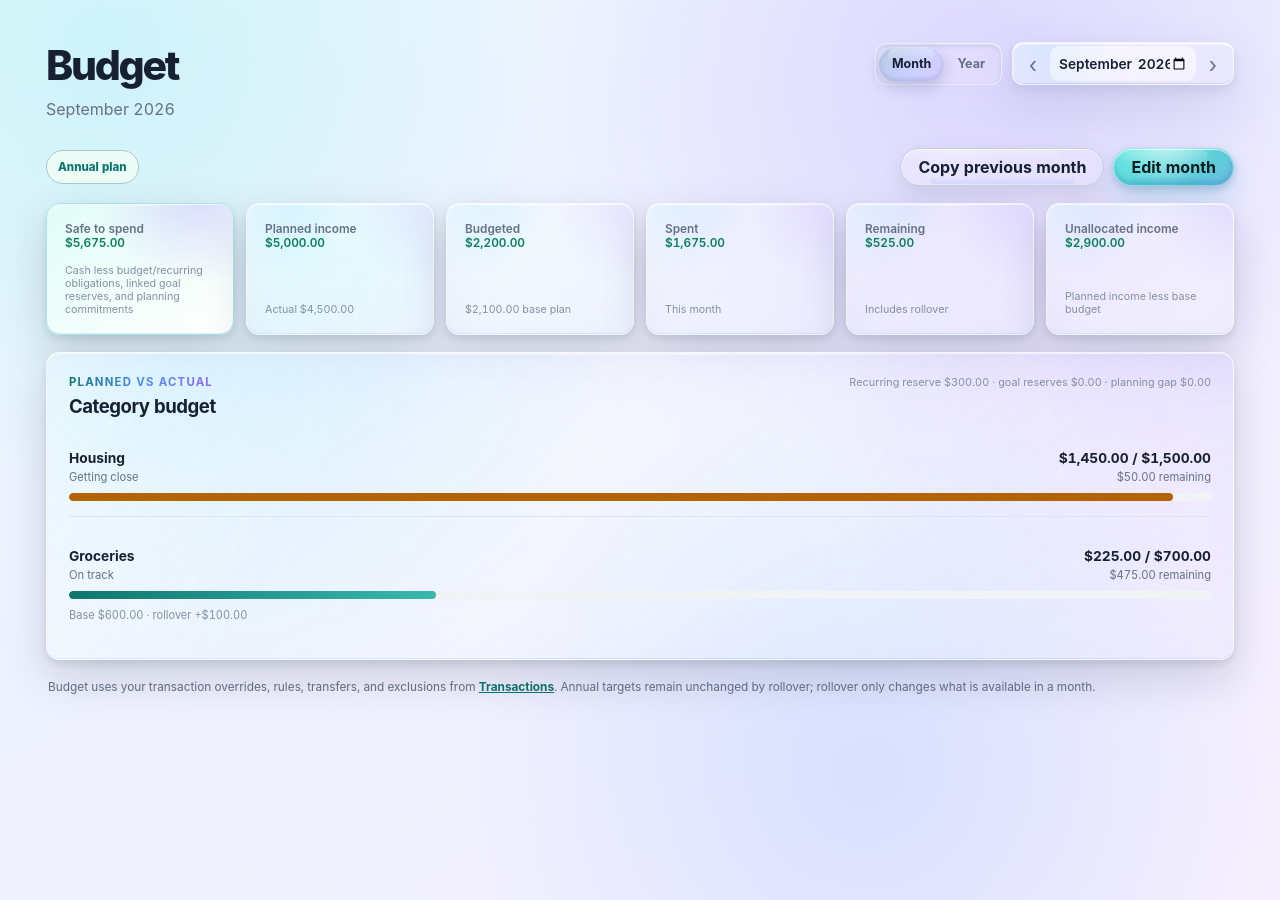
it: BudgetPage › switches to annual planning and exposes the annual editor
Expected: the text "Safe to spend" is shown, [65,222,144,236]
Step 1. Click the button "Year" → (971, 64), box [944,46,998,80]
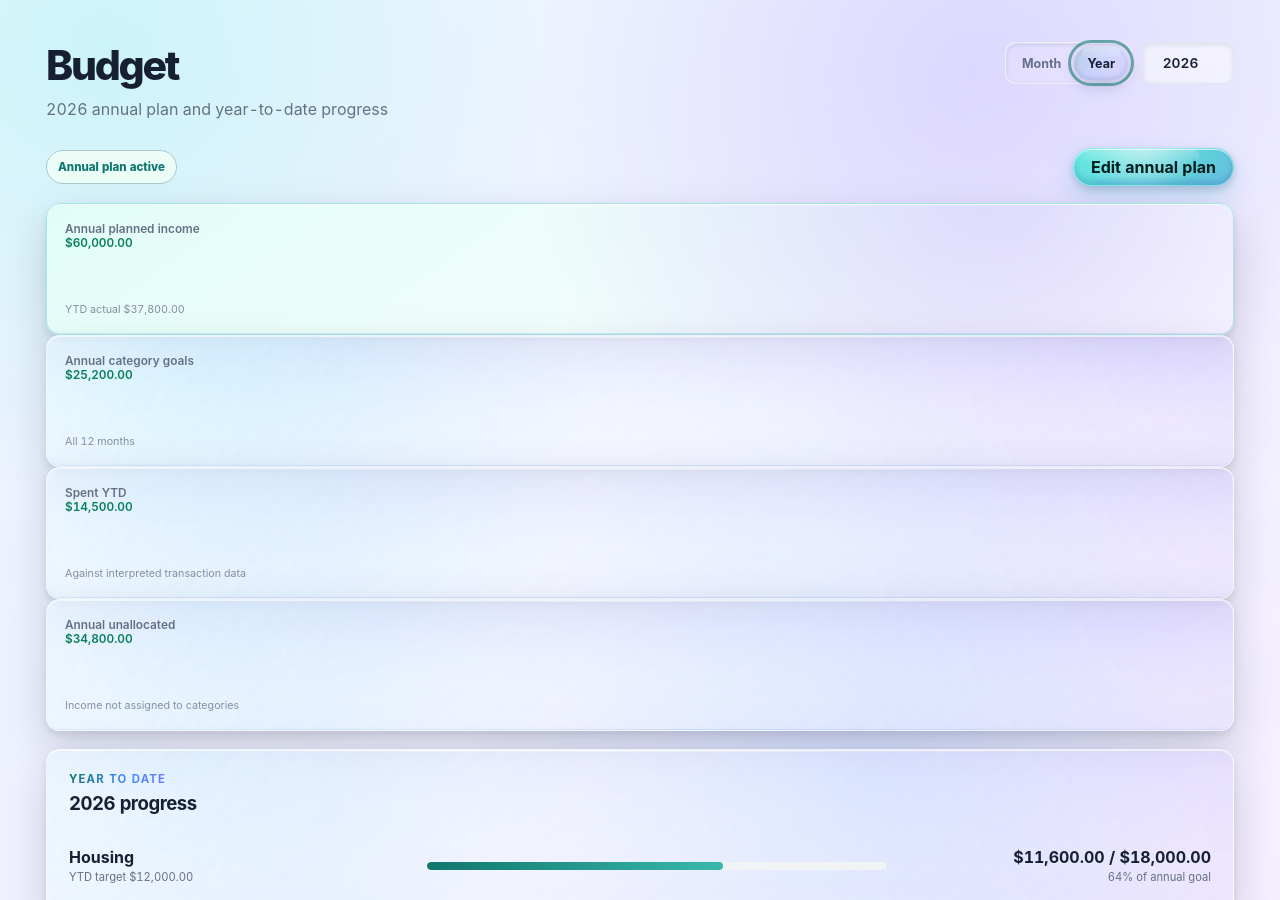
Result: the text "Annual planned income" is shown at [65,222,200,236]
Step 2. Click the button "Edit annual plan" → (1153, 167), box [1073,148,1234,186]
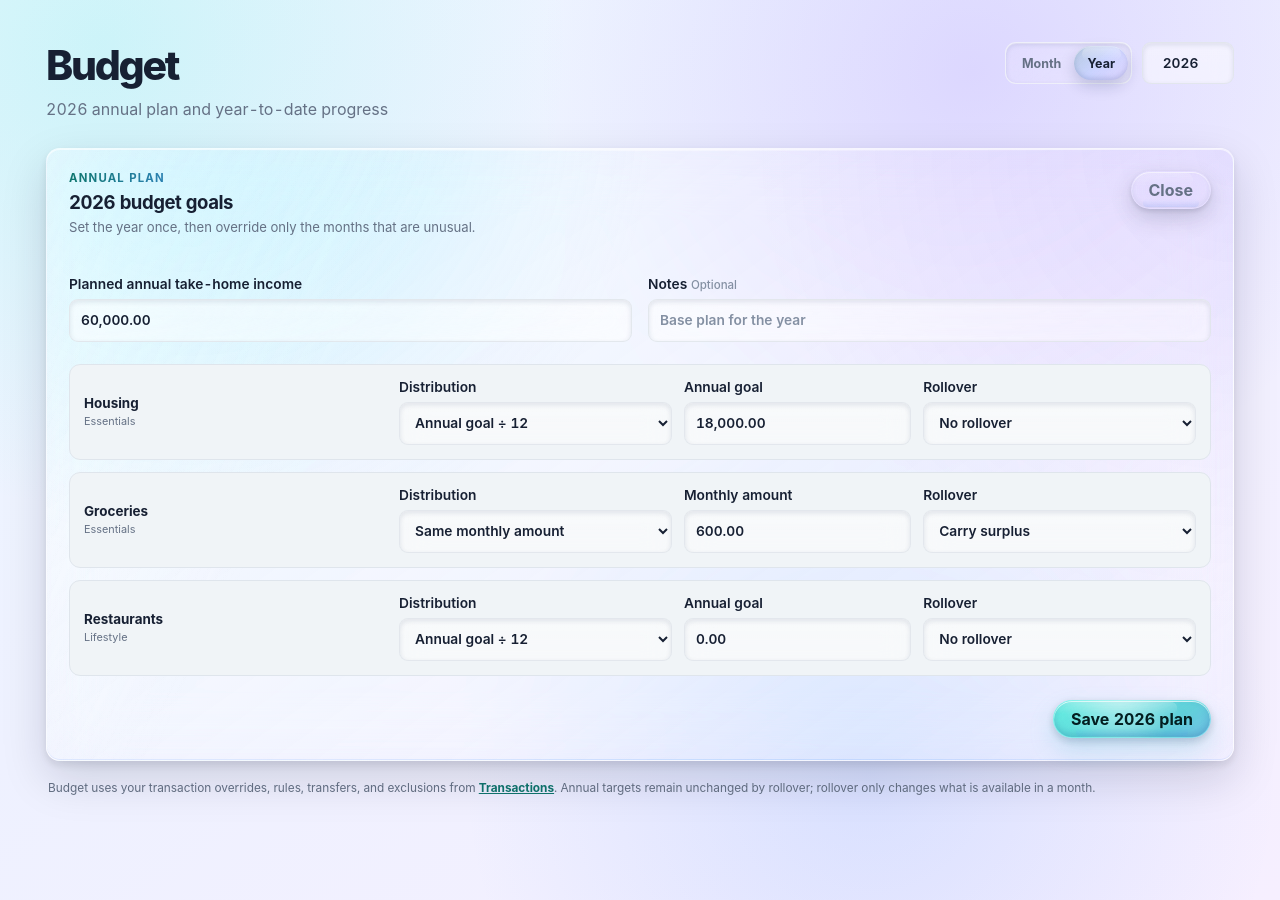
Result: the heading "2026 budget goals" is shown at [69,191,233,213]
Result: the field showing "60,000.00" is shown at [69,299,632,342]
